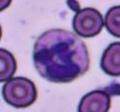N: (32, 28, 89, 82)
